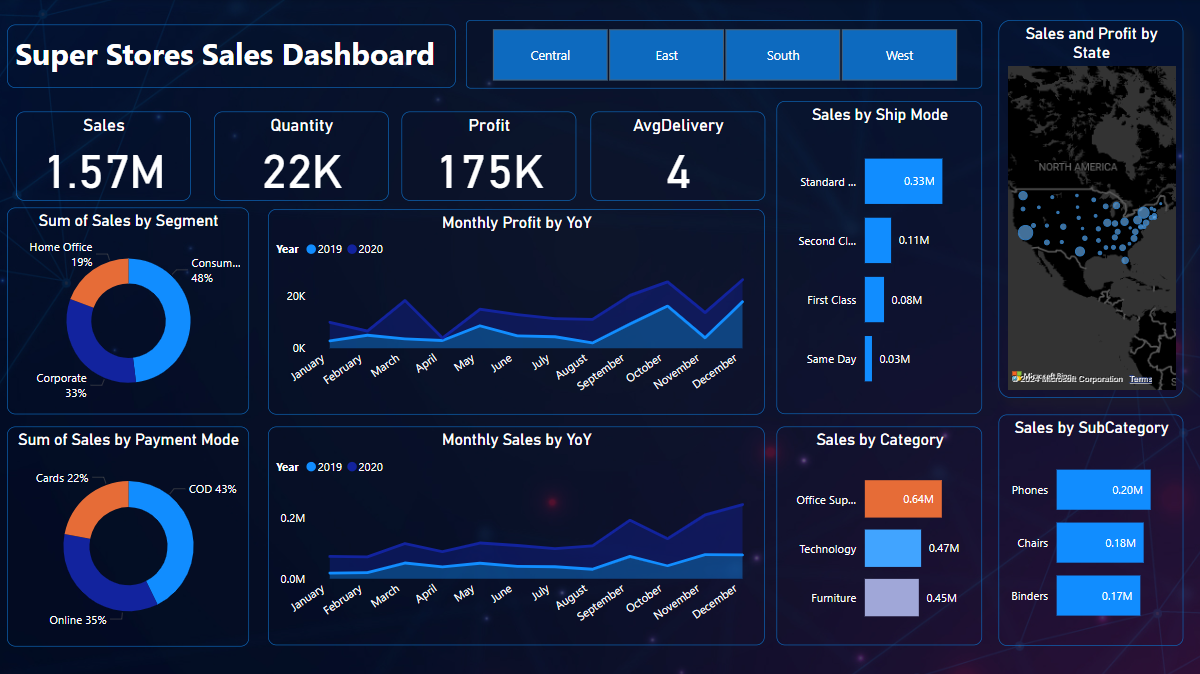

The dashboard page shown, as its layout file describes it:
{"tool":"powerbi","page":{"name":"Page 1","canvas":[1280,720],"ordinal":0},"visuals":[{"type":"clusteredBarChart","title":"Sales by Category","fields":{"Category":["SuperStore_Sales_Dataset (2).Category"],"Y":["Sum(SuperStore_Sales_Dataset (2).Sales)"]},"box":[828.1,453.8,218,231.7],"z":0},{"type":"clusteredBarChart","title":"Sales by SubCategory","fields":{"Category":["SuperStore_Sales_Dataset (2).Sub-Category"],"Y":["Sum(SuperStore_Sales_Dataset (2).Sales)"]},"box":[1063.9,440.1,196.1,245.4],"z":1000},{"type":"clusteredBarChart","title":"Sales by Ship Mode","fields":{"Category":["SuperStore_Sales_Dataset (2).Ship Mode"],"Y":["Sum(SuperStore_Sales_Dataset (2).Sales)"]},"box":[828.1,108.3,218,331.8],"z":2000},{"type":"stackedAreaChart","title":"Monthly Sales by YoY","fields":{"Y":["Sum(SuperStore_Sales_Dataset (2).Sales)"],"Series":["SuperStore_Sales_Dataset (2).Order Date.Variation.Date Hierarchy.Year"],"Category":["SuperStore_Sales_Dataset (2).Order Date.Variation.Date Hierarchy.Month","SuperStore_Sales_Dataset (2).Order Date.Variation.Date Hierarchy.Day"]},"box":[289.3,453.8,526.5,231.7],"z":3000},{"type":"stackedAreaChart","title":"Monthly Profit by YoY","fields":{"Series":["SuperStore_Sales_Dataset (2).Order Date.Variation.Date Hierarchy.Year"],"Category":["SuperStore_Sales_Dataset (2).Order Date.Variation.Date Hierarchy.Month","SuperStore_Sales_Dataset (2).Order Date.Variation.Date Hierarchy.Day"],"Y":["Sum(SuperStore_Sales_Dataset (2).Profit)"]},"box":[289.3,222.1,526.5,218],"z":4000},{"type":"donutChart","fields":{"Category":["SuperStore_Sales_Dataset (2).Segment"],"Y":["Sum(SuperStore_Sales_Dataset (2).Sales)"]},"box":[12.3,220.7,256.4,219.4],"z":5000},{"type":"donutChart","fields":{"Category":["SuperStore_Sales_Dataset (2).Payment Mode"],"Y":["Sum(SuperStore_Sales_Dataset (2).Sales)"]},"box":[12.3,453.8,256.4,233.1],"z":6000},{"type":"slicer","fields":{"Values":["SuperStore_Sales_Dataset (2).Region"]},"box":[499.1,21.9,547,72.7],"z":7000},{"type":"textbox","box":[12.3,27.4,475.8,67.2],"z":8000},{"type":"card","title":"Sales","fields":{"Values":["Sum(SuperStore_Sales_Dataset (2).Sales)"]},"box":[21.9,119.3,185.1,94.6],"z":9000},{"type":"card","title":"Quantity","fields":{"Values":["Sum(SuperStore_Sales_Dataset (2).Quantity)"]},"box":[231.7,119.3,185.1,94.6],"z":10000},{"type":"card","title":"Profit","fields":{"Values":["Sum(SuperStore_Sales_Dataset (2).Profit)"]},"box":[430.5,119.3,185.1,94.6],"z":11000},{"type":"card","title":"AvgDelivery","fields":{"Values":["Avg(SuperStore_Sales_Dataset (2).AvgDelivery)"]},"box":[630.7,119.3,185.1,94.6],"z":12000},{"type":"map","title":"Sales and Profit by State","fields":{"Category":["SuperStore_Sales_Dataset (2).State"],"Size":["Sum(SuperStore_Sales_Dataset (2).Sales)"]},"box":[1063.9,21.9,196.1,400.3],"z":13000}]}

Visuals, with their boxes in screenshot pixels (x1, y1, x2, y2), scaled from the page's 1280x720 canvas onto the 1200x674 screenshot:
"Sales by Category" clusteredBarChart: 776, 425, 981, 642
"Sales by SubCategory" clusteredBarChart: 997, 412, 1181, 642
"Sales by Ship Mode" clusteredBarChart: 776, 101, 981, 412
"Monthly Sales by YoY" stackedAreaChart: 271, 425, 765, 642
"Monthly Profit by YoY" stackedAreaChart: 271, 208, 765, 412
donutChart - SuperStore_Sales_Dataset (2).Segment x Sum(SuperStore_Sales_Dataset (2).Sales): 12, 207, 252, 412
donutChart - SuperStore_Sales_Dataset (2).Payment Mode x Sum(SuperStore_Sales_Dataset (2).Sales): 12, 425, 252, 643
slicer - SuperStore_Sales_Dataset (2).Region: 468, 21, 981, 89
textbox: 12, 26, 458, 89
"Sales" card: 21, 112, 194, 200
"Quantity" card: 217, 112, 391, 200
"Profit" card: 404, 112, 577, 200
"AvgDelivery" card: 591, 112, 765, 200
"Sales and Profit by State" map: 997, 21, 1181, 395
